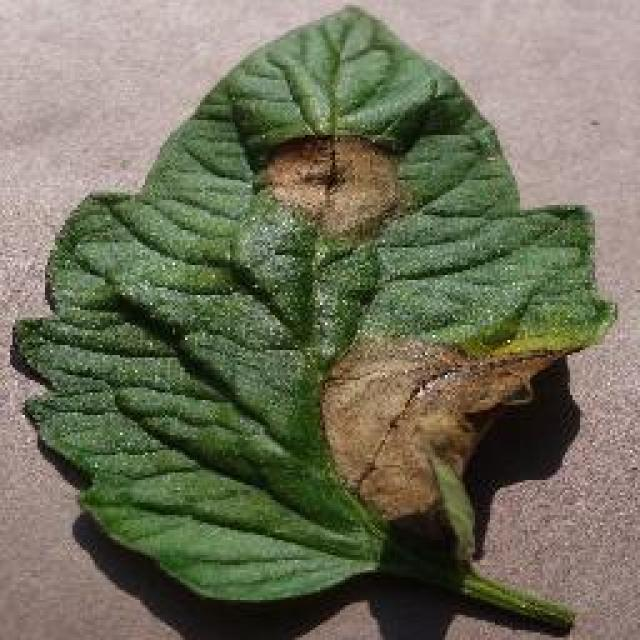Tomato late blight leaf: (15, 2, 620, 600)
